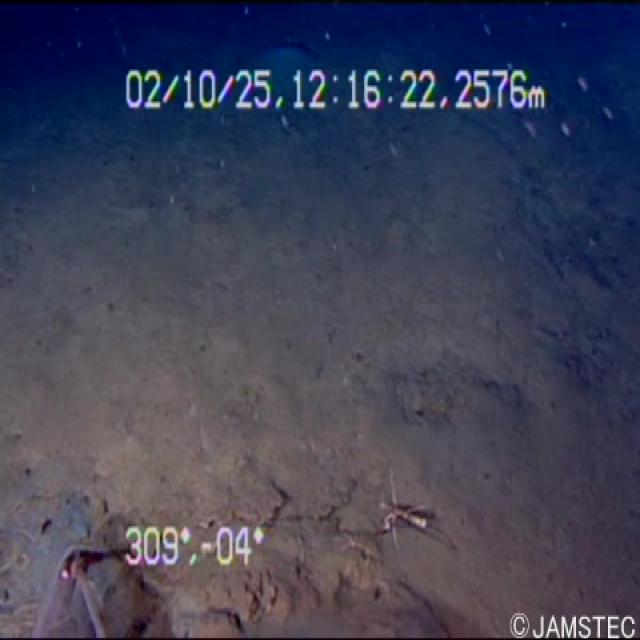plastic: (21, 526, 146, 638)
